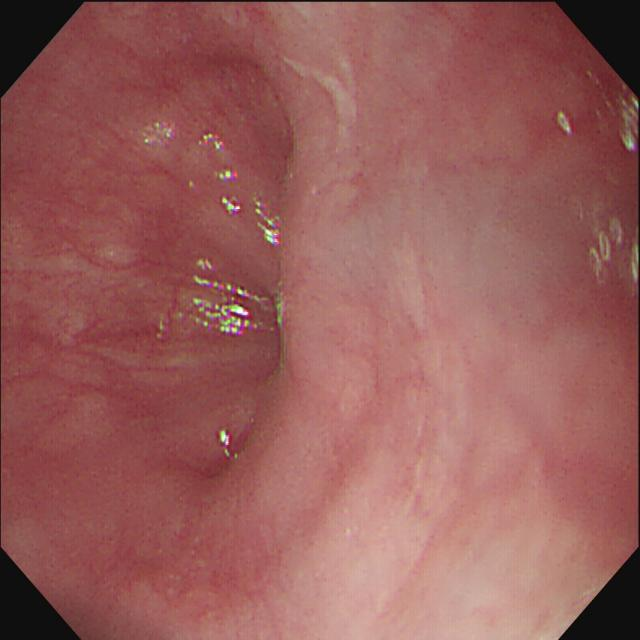A: (148, 46, 256, 108)
J: (285, 52, 367, 149)
U: (192, 298, 252, 341), (195, 276, 259, 302), (256, 200, 282, 246), (222, 198, 241, 215), (221, 431, 231, 457)
